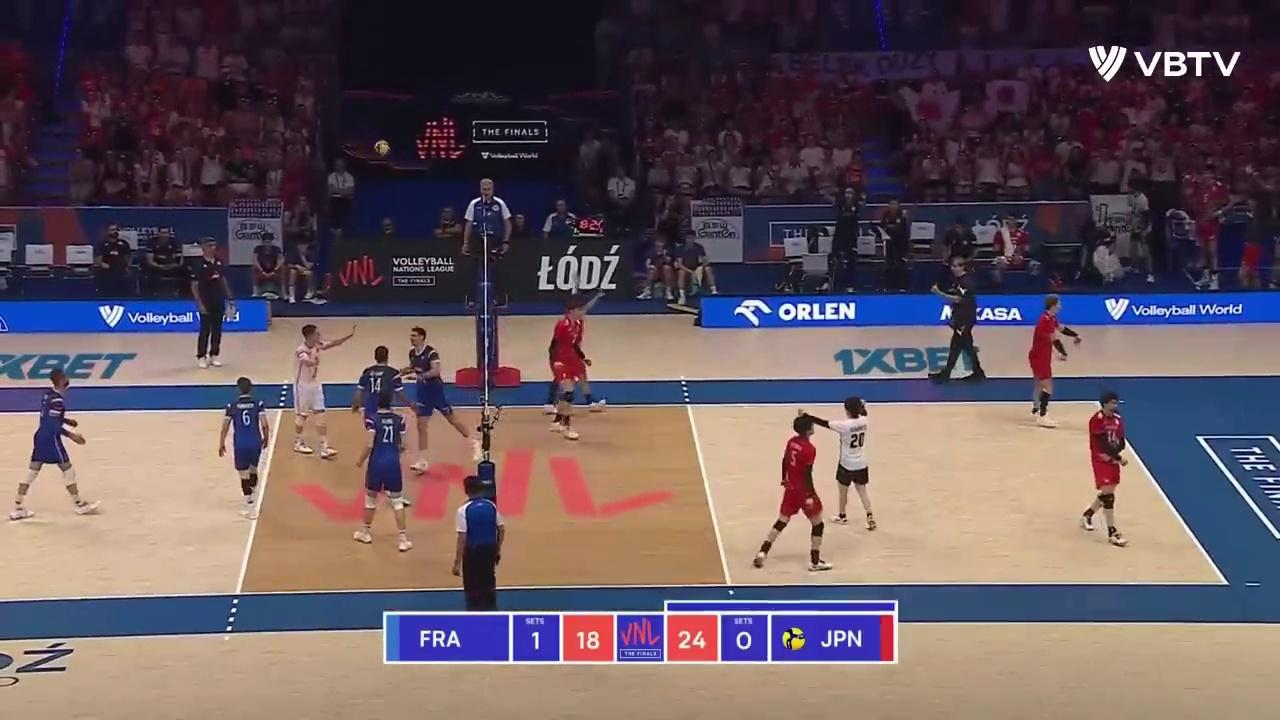ball: (372, 139, 387, 157)
